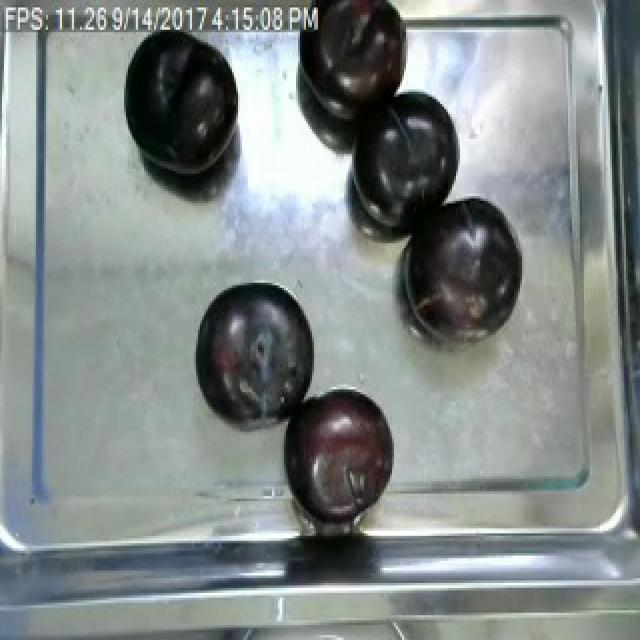Fruit: (118, 20, 246, 186), (398, 186, 524, 347), (190, 278, 318, 427), (346, 82, 464, 231), (278, 382, 396, 523), (316, 0, 410, 117)
